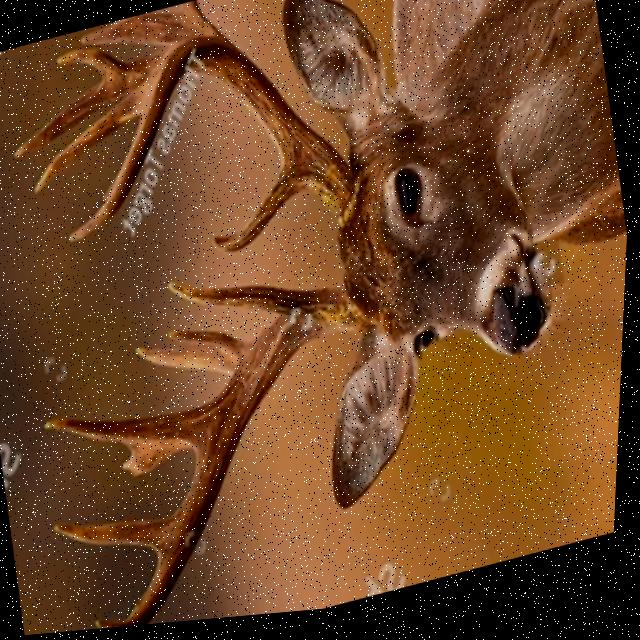E1: (54, 48, 126, 81)
E2: (125, 447, 196, 480)
L-F: (96, 283, 376, 631)
L-G1: (167, 282, 309, 323)
L-G2: (169, 333, 251, 364)
L-G3: (46, 404, 216, 457)
L-G4: (56, 519, 176, 557)
R-F: (68, 38, 360, 246)
R-G1: (213, 165, 304, 258)
R-G3: (12, 50, 170, 159)
R-G4: (33, 87, 145, 196)
